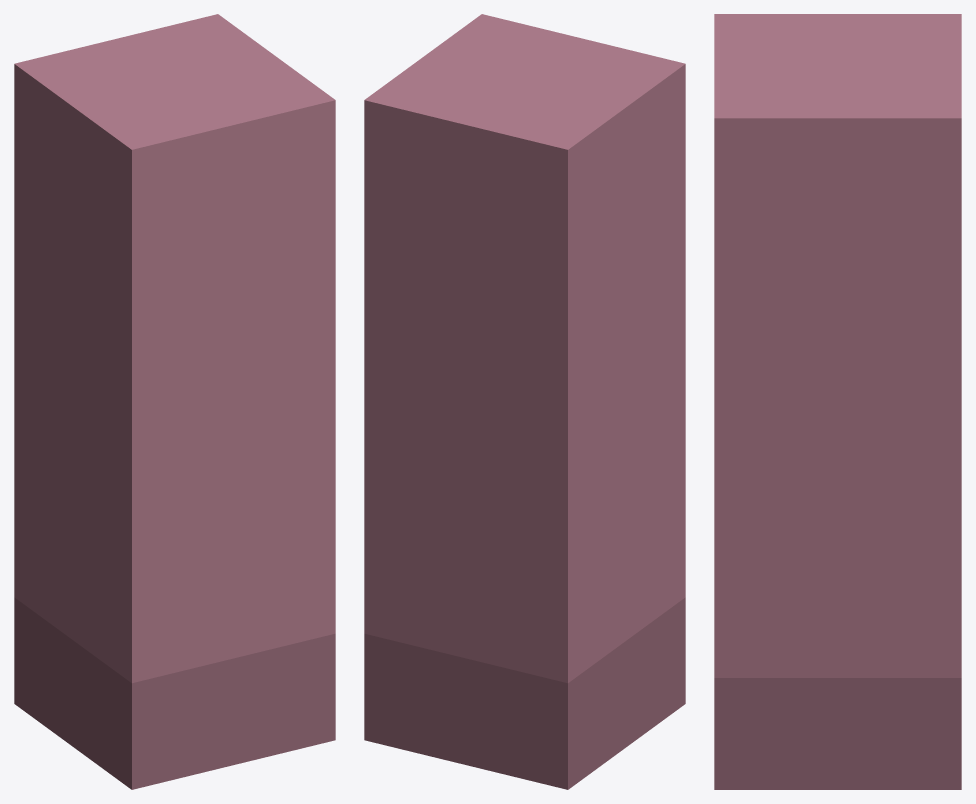
File: Animals-37.obj
3 views of the same model, side by side, from view 1: azimuth 30°, elevation 25°; view 2: azimuth 150°, elevation 25°; view 3: azimuth 270°, elevation 25° (orthographic). The views are drawn at different scales.
Size of the model in its own units: 0.2 by 0.6 by 0.2.
1 material, 1 textured.
